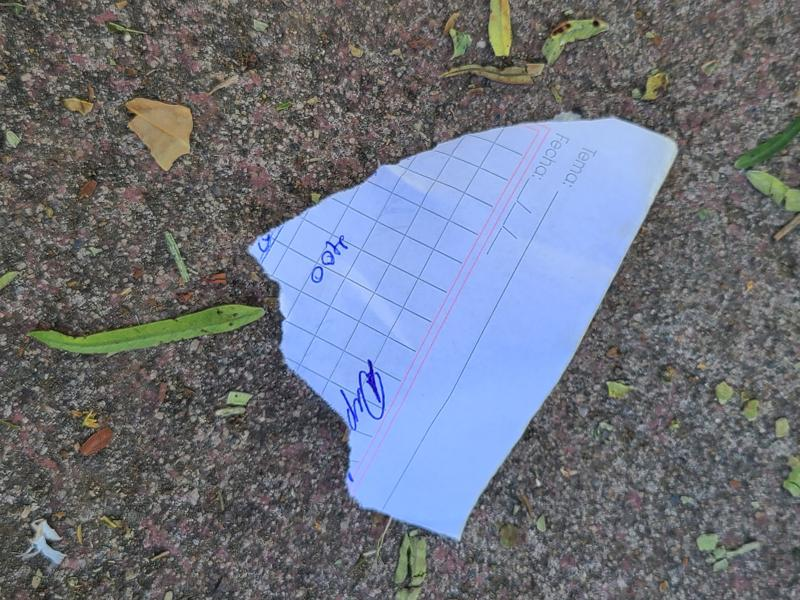papel: (247, 117, 680, 542)
